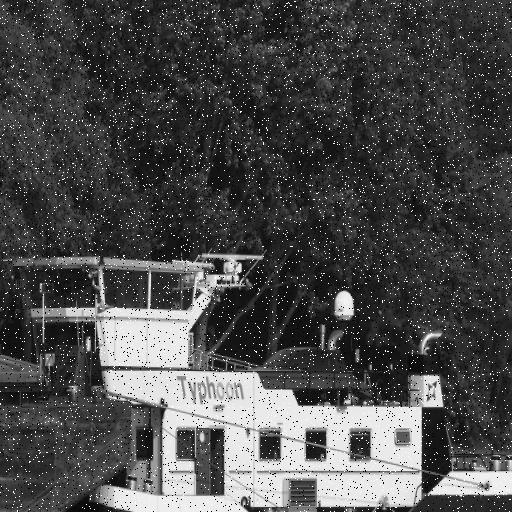tugboat: (1, 248, 512, 512)
